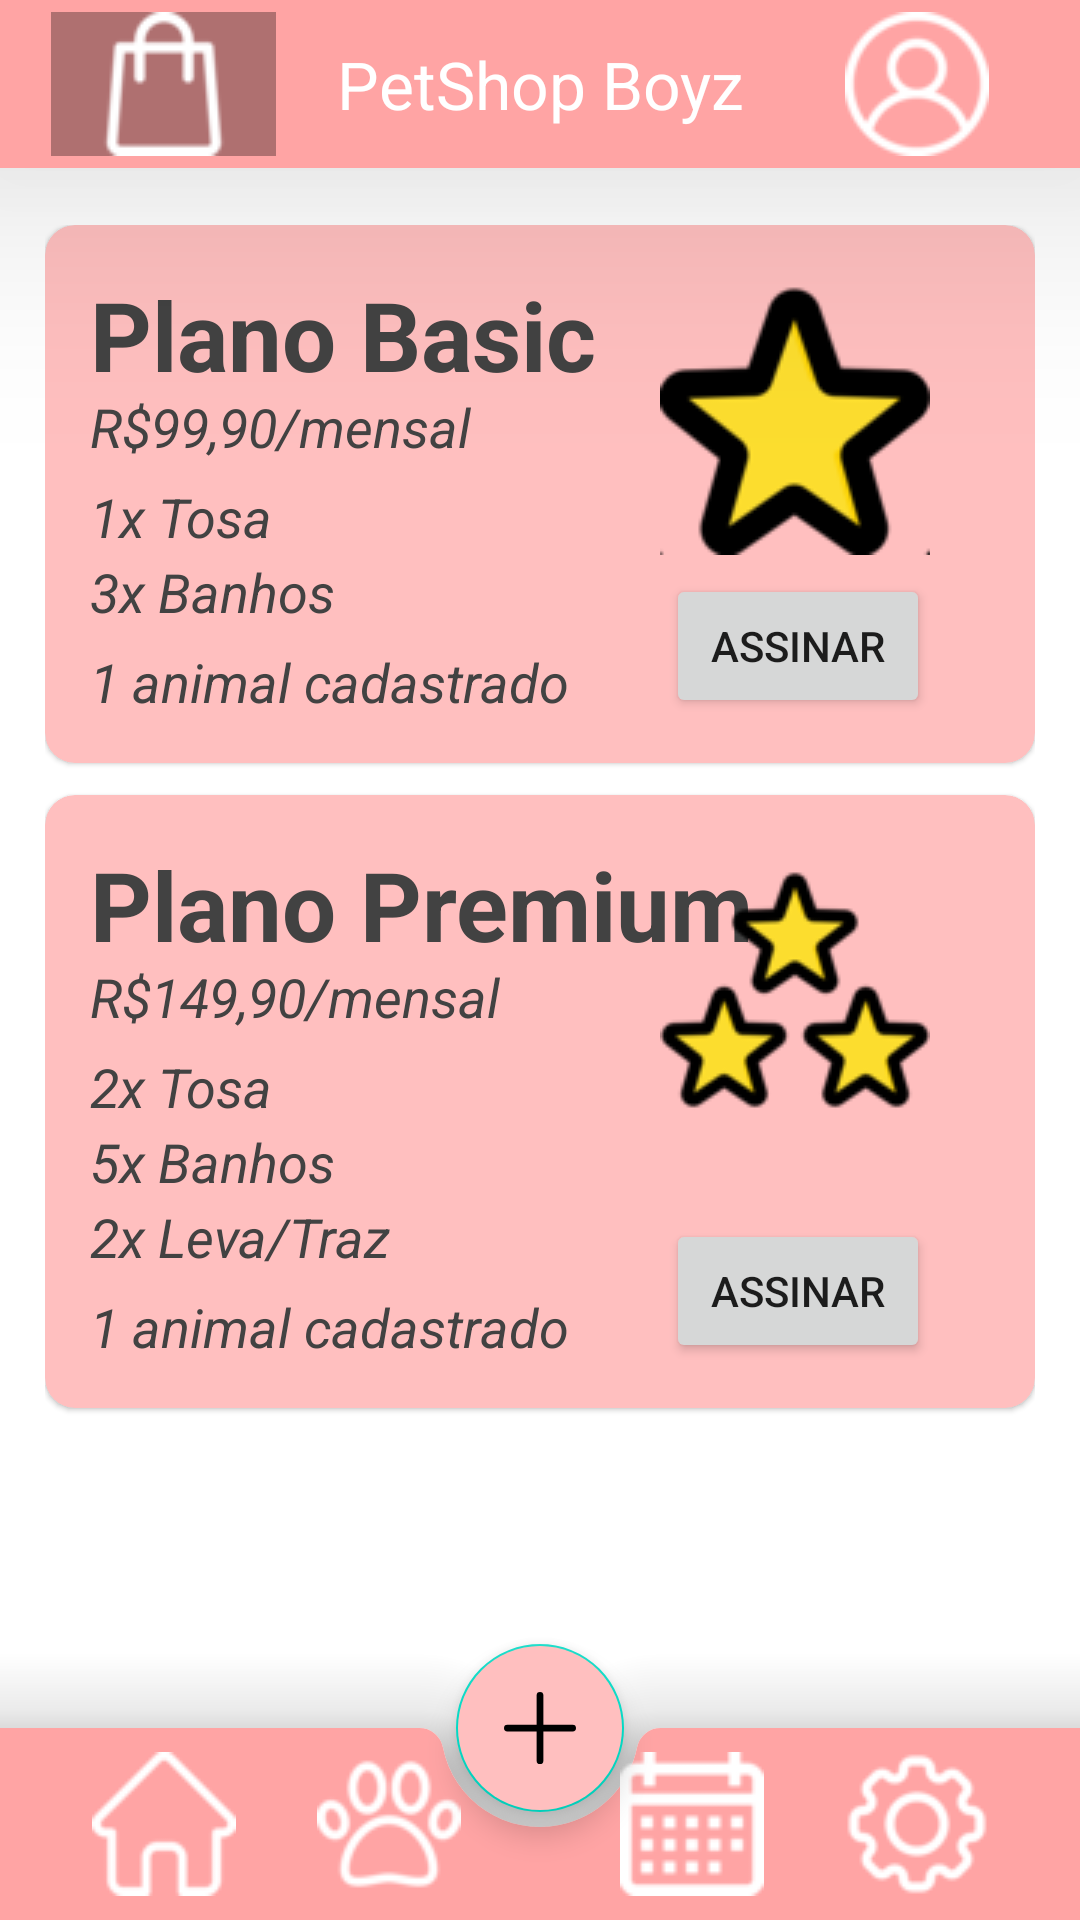

Named icons in this screenshot (1080 × 1920) and their centers, point (x, y):
add: point (540, 1728)
calendar: point (691, 1824)
home: point (164, 1824)
one star: point (795, 421)
pet: point (388, 1824)
setting: point (917, 1824)
three star: point (795, 990)
user: point (917, 84)
